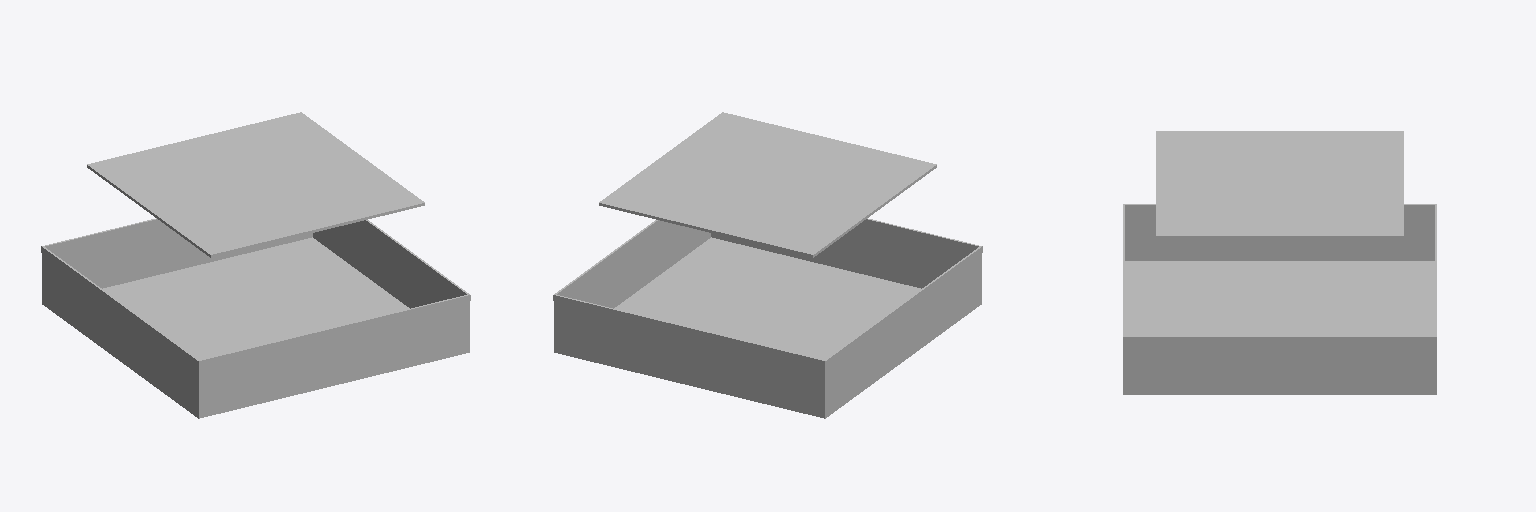
File: Arena.obj
3 views of the same model, side by side, from view 1: azimuth 30°, elevation 25°; view 2: azimuth 150°, elevation 25°; view 3: azimuth 270°, elevation 25° (orthographic).
Parts seen in each view (by area): view 1: Plane, Plane.001; view 2: Plane, Plane.001; view 3: Plane, Plane.001.
Part boxes in pixels (bbox=[...]): Plane: bbox=[41, 218, 470, 418]; Plane.001: bbox=[87, 112, 424, 257]; Plane: bbox=[553, 218, 982, 418]; Plane.001: bbox=[599, 112, 936, 257]; Plane: bbox=[1123, 204, 1436, 394]; Plane.001: bbox=[1156, 131, 1403, 238].
Size of the model in its own units: 10.14 by 5.16 by 10.14.